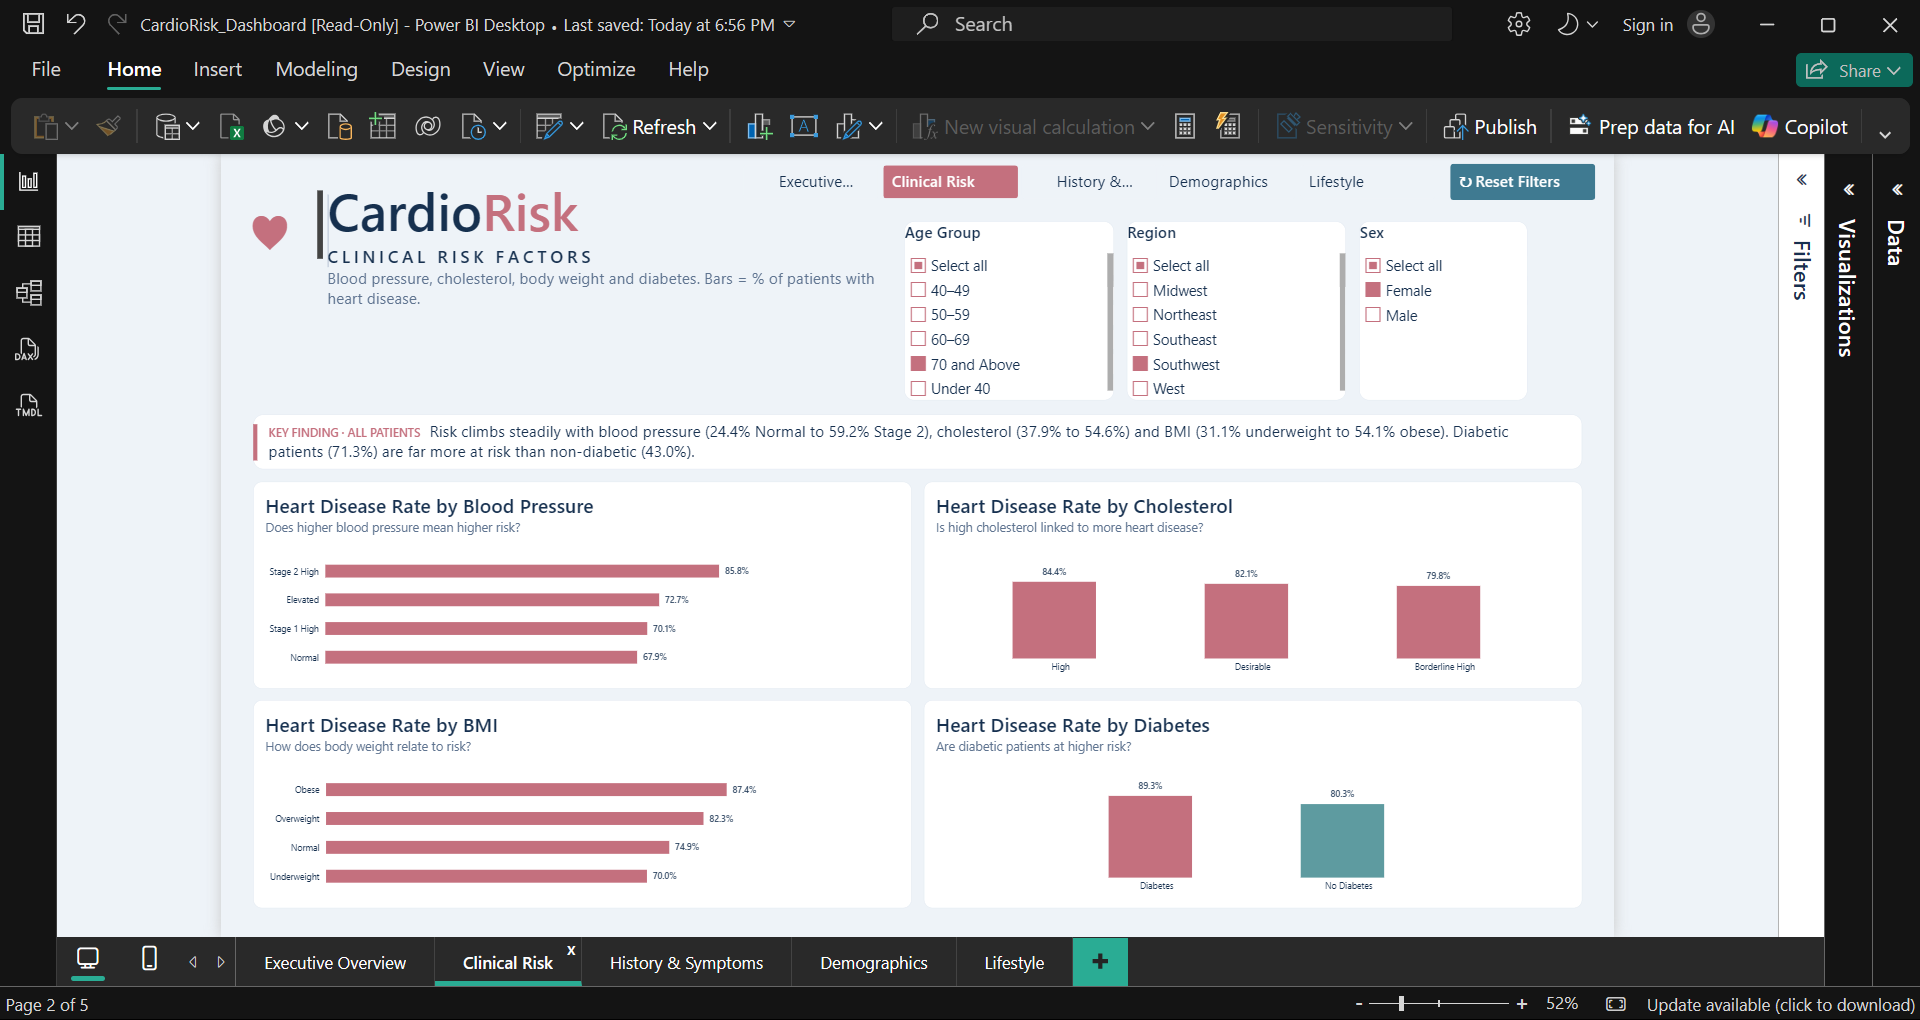

What the dashboard file says about the page in this screenshot:
{"tool":"powerbi","page":{"name":"Clinical Risk","canvas":[1920,1080],"ordinal":1},"visuals":[{"type":"textbox","box":[40,50,100,100],"z":900},{"type":"textbox","box":[146,56,2,100],"z":901},{"type":"textbox","box":[147,28.1,776.1,222.7],"z":1000},{"type":"textbox","box":[44,359,1832,76],"z":1100},{"type":"textbox","box":[44,372,6,50],"z":1101},{"type":"textbox","box":[66,366,1790,64],"z":1102},{"type":"clusteredBarChart","title":"Heart Disease Rate by Blood Pressure","fields":{"Category":["heart_disease_clean.BP Category"],"Y":["heart_disease_clean.Heart Disease Rate by BP"]},"box":[44,451,908,286],"z":3000},{"type":"clusteredColumnChart","title":"Heart Disease Rate by Cholesterol","fields":{"Category":["heart_disease_clean.Cholesterol Category"],"Y":["heart_disease_clean.Heart Disease Rate by Cholesterol"]},"box":[968,451,908,286],"z":3001},{"type":"clusteredBarChart","title":"Heart Disease Rate by BMI","fields":{"Category":["heart_disease_clean.BMI Category"],"Y":["heart_disease_clean.Heart Disease Rate by BMI"]},"box":[44,753,908,287],"z":3002},{"type":"clusteredColumnChart","title":"Heart Disease Rate by Diabetes","fields":{"Category":["heart_disease_clean.Diabetes Category"],"Y":["heart_disease_clean.Heart Disease Rate"]},"box":[968,753,908,287],"z":3003},{"type":"actionButton","box":[720,16,186,46],"z":12000},{"type":"actionButton","box":[912,16,186,46],"z":12000},{"type":"actionButton","box":[1104,16,186,46],"z":12000},{"type":"actionButton","box":[1296,16,186,46],"z":12000},{"type":"actionButton","box":[1488,16,186,46],"z":12000},{"type":"slicer","title":"Age Group","fields":{"Values":["heart_disease_clean.Age Group"]},"box":[942,92,289,247],"z":12200},{"type":"slicer","title":"Region","fields":{"Values":["heart_disease_clean.region"]},"box":[1248,92,302,247],"z":12201},{"type":"slicer","title":"Sex","fields":{"Values":["heart_disease_clean.sex"]},"box":[1569,92,232,247],"z":12202},{"type":"actionButton","box":[1694,14,200,50],"z":12300}]}

Visuals, with their boxes on the page's 1920x1080 design canvas (x1, y1, x2, y2). These are canvas units, not pixel positions in the 1920x1020 screenshot, which may show the page scaled, cropped or inside an application window:
textbox: rect(40, 50, 140, 150)
textbox: rect(146, 56, 148, 156)
textbox: rect(147, 28, 923, 251)
textbox: rect(44, 359, 1876, 435)
textbox: rect(44, 372, 50, 422)
textbox: rect(66, 366, 1856, 430)
"Heart Disease Rate by Blood Pressure" clusteredBarChart: rect(44, 451, 952, 737)
"Heart Disease Rate by Cholesterol" clusteredColumnChart: rect(968, 451, 1876, 737)
"Heart Disease Rate by BMI" clusteredBarChart: rect(44, 753, 952, 1040)
"Heart Disease Rate by Diabetes" clusteredColumnChart: rect(968, 753, 1876, 1040)
actionButton: rect(720, 16, 906, 62)
actionButton: rect(912, 16, 1098, 62)
actionButton: rect(1104, 16, 1290, 62)
actionButton: rect(1296, 16, 1482, 62)
actionButton: rect(1488, 16, 1674, 62)
"Age Group" slicer: rect(942, 92, 1231, 339)
"Region" slicer: rect(1248, 92, 1550, 339)
"Sex" slicer: rect(1569, 92, 1801, 339)
actionButton: rect(1694, 14, 1894, 64)
